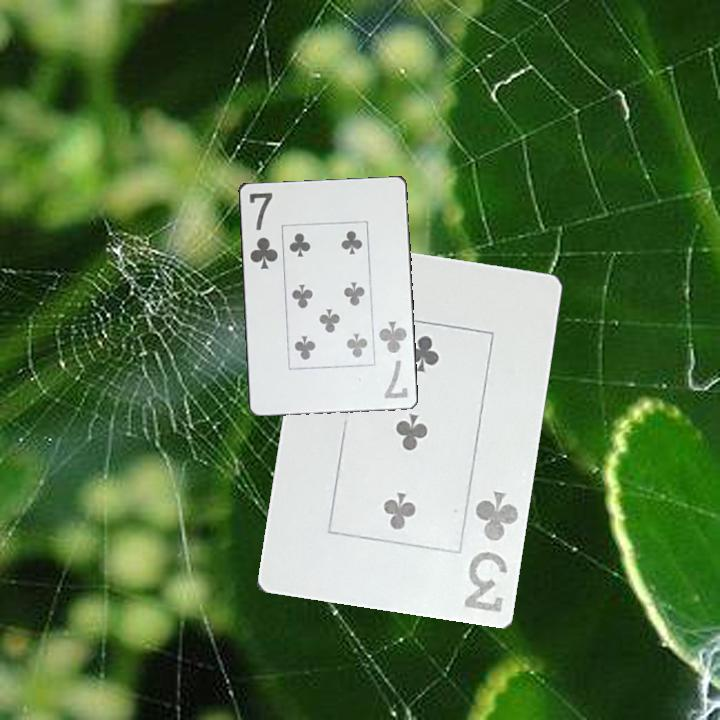3c: (460, 487, 521, 615)
7c: (245, 188, 281, 272), (375, 317, 410, 401)
